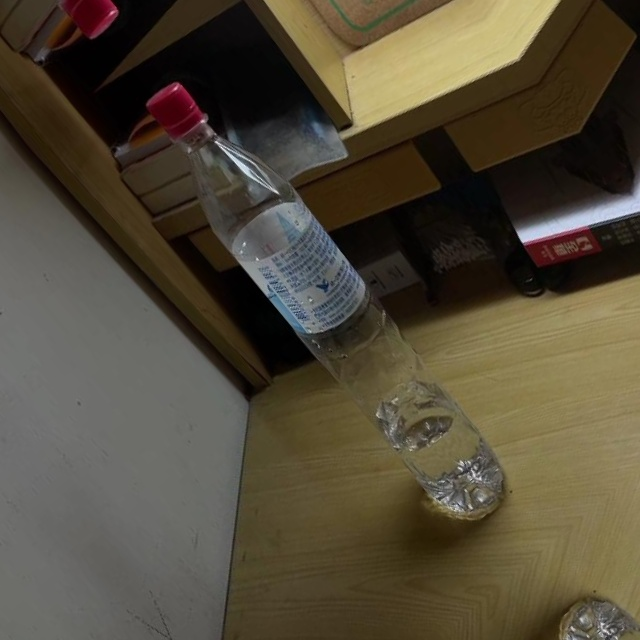Water: (115, 62, 535, 537)
